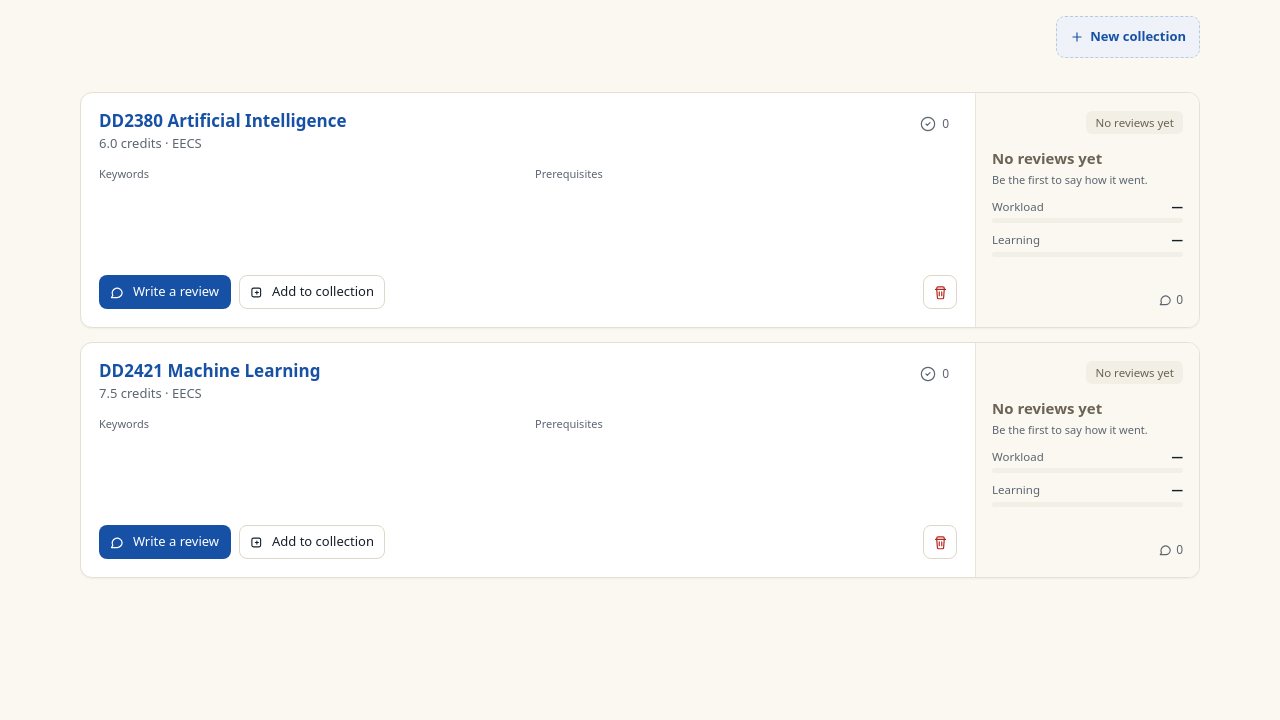
Test: Saved › unsaving › asks before it writes anything
Step 1. Click the button named "Remove DD2380 from saved courses" → click(940, 292), box 923,275 -> 957,309
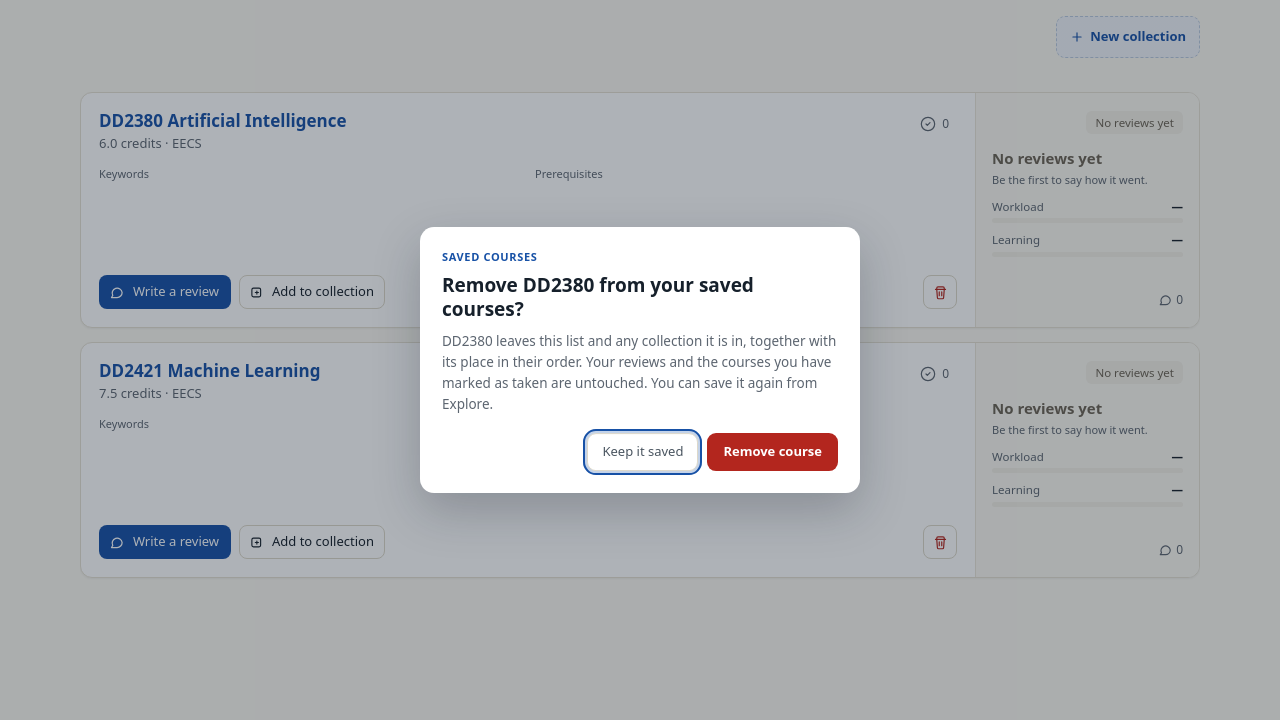
Expected: the heading "Remove DD2380 from your saved courses?" is shown, 442,272 -> 754,322
